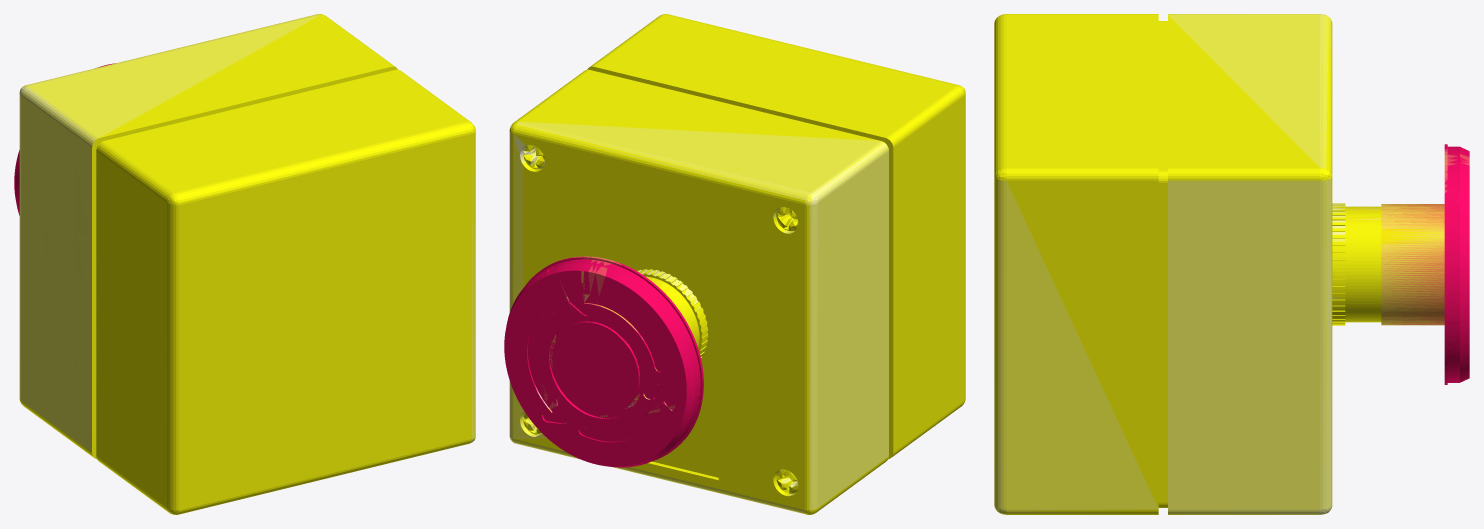
Rendered from emergencyStopWallMounted.dae.
The picture shows the model from 3 angles, left to right: view 1: azimuth 30°, elevation 25°; view 2: azimuth 150°, elevation 25°; view 3: azimuth 270°, elevation 25°; orthographic projection. The views are drawn at different scales.
Visible parts, largest first — view 1: emergencyStopWallMounted; view 2: emergencyStopWallMounted; view 3: emergencyStopWallMounted.
Part boxes in pixels (x1,y1,x2,y2): emergencyStopWallMounted: [14, 14, 475, 514]; emergencyStopWallMounted: [504, 14, 965, 514]; emergencyStopWallMounted: [994, 14, 1469, 514].
Size of the model in its own units: 0.1212 by 0.1509 by 0.1222.
